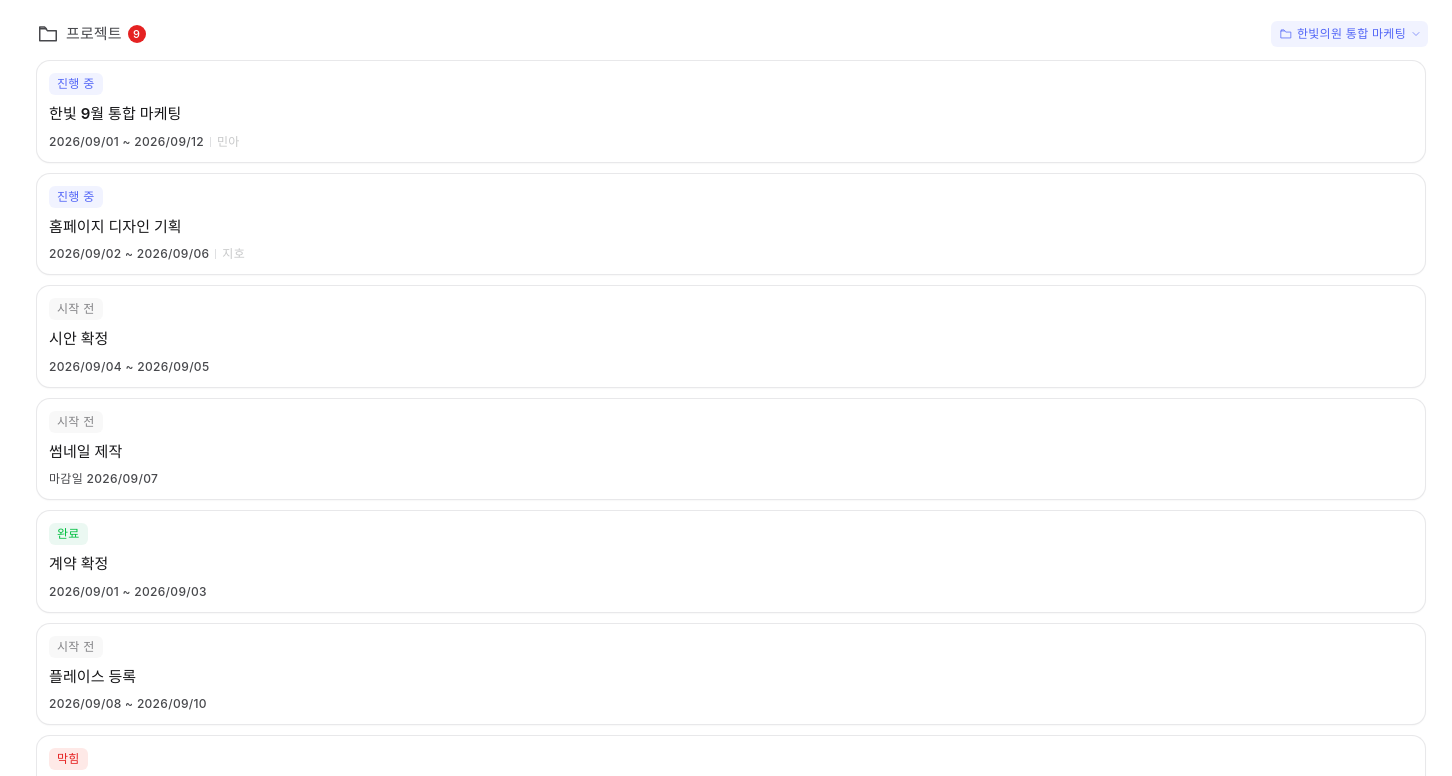
Scenario: 프로젝트 › 담당이 없으면 우 레일도 좌 레일과 «같은 방식» 으로 비운다 — 「—」도 「미정」도 없다
Click the button "시작 전 썸네일 제작 마감일 2026/09/07" at (76, 422), box [36,398,1426,500]
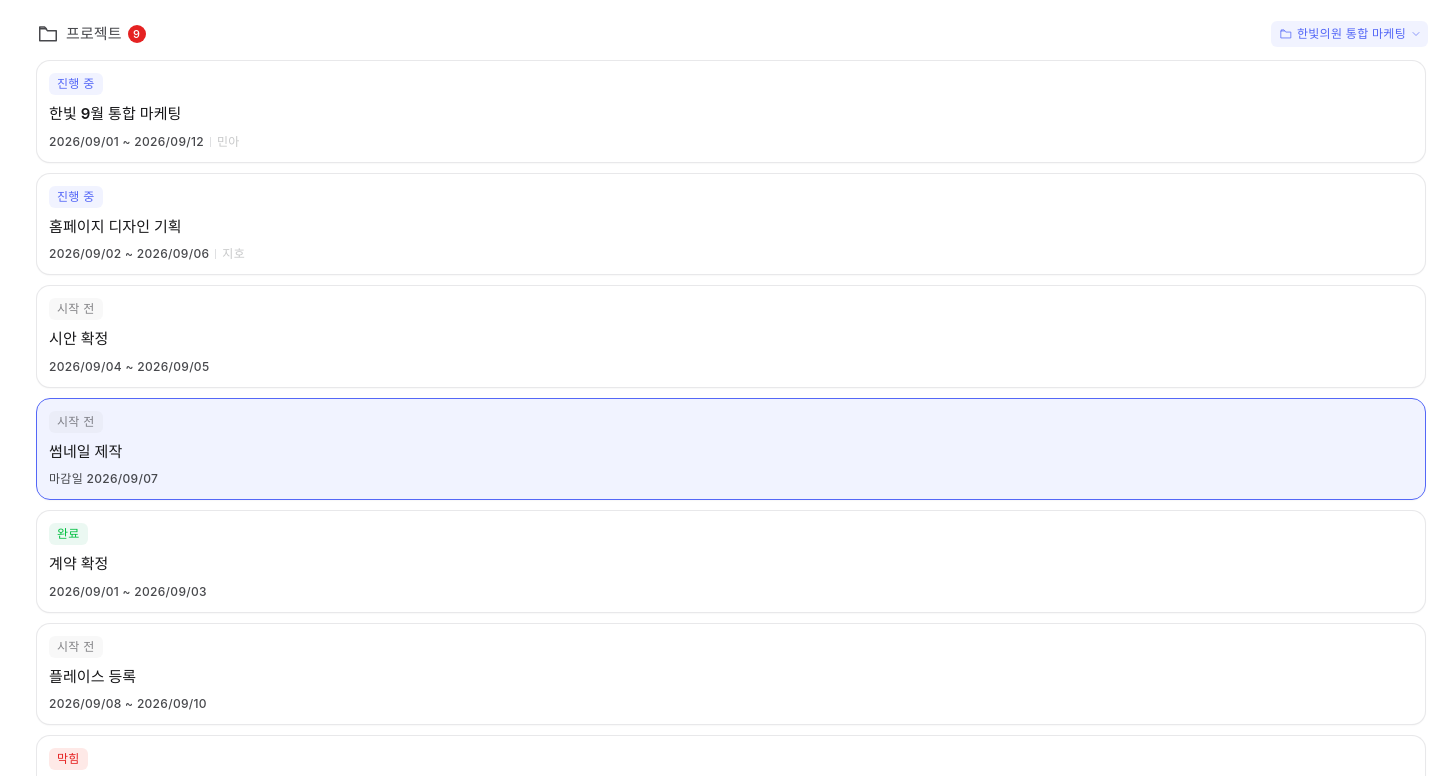
Check: the text "담당" is not shown
Check: the text "—" is not shown
Click the button "홈페이지 디자인 기획" at (76, 196), box [36,172,1426,275]
(page scrolled)
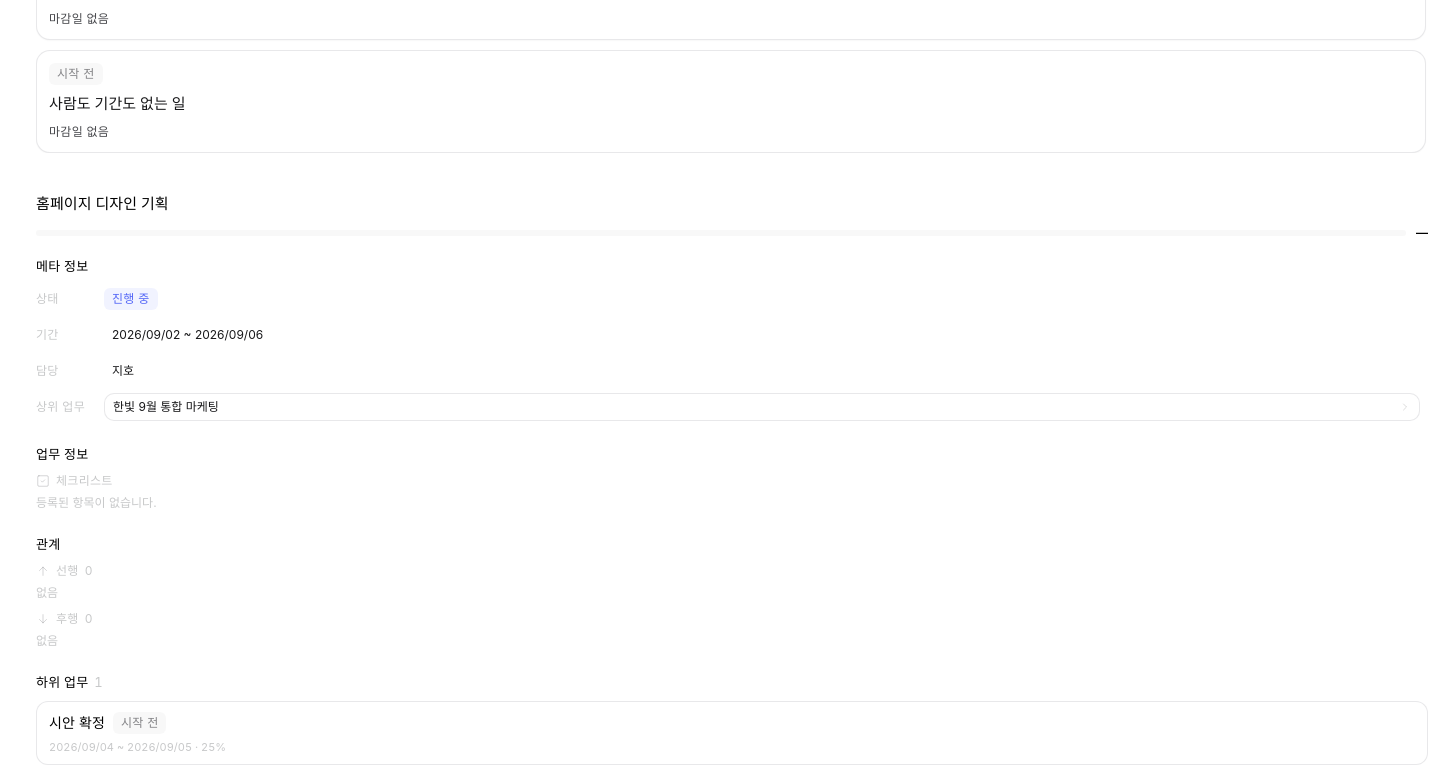
Check: the text "담당" is shown, box [36,363,59,378]
Check: the text "지호" is shown, box [112,363,134,378]
